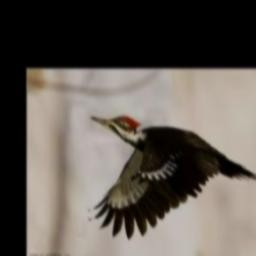Woodpecker: (87, 116, 256, 239)
